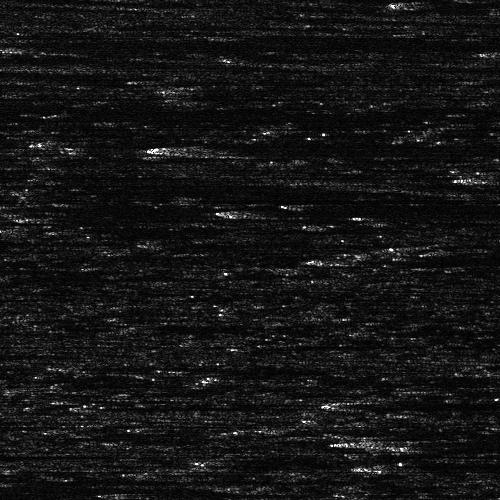rock: (275, 249, 400, 270), (199, 205, 282, 214), (350, 459, 413, 470), (312, 398, 385, 407), (459, 172, 500, 179), (350, 437, 381, 446), (0, 476, 22, 483), (176, 147, 197, 150), (0, 38, 7, 43)
shadow: (338, 249, 500, 270), (241, 205, 500, 214), (349, 398, 500, 407), (382, 459, 500, 470), (366, 437, 500, 446), (0, 38, 133, 43), (0, 476, 59, 483), (187, 147, 266, 150)
